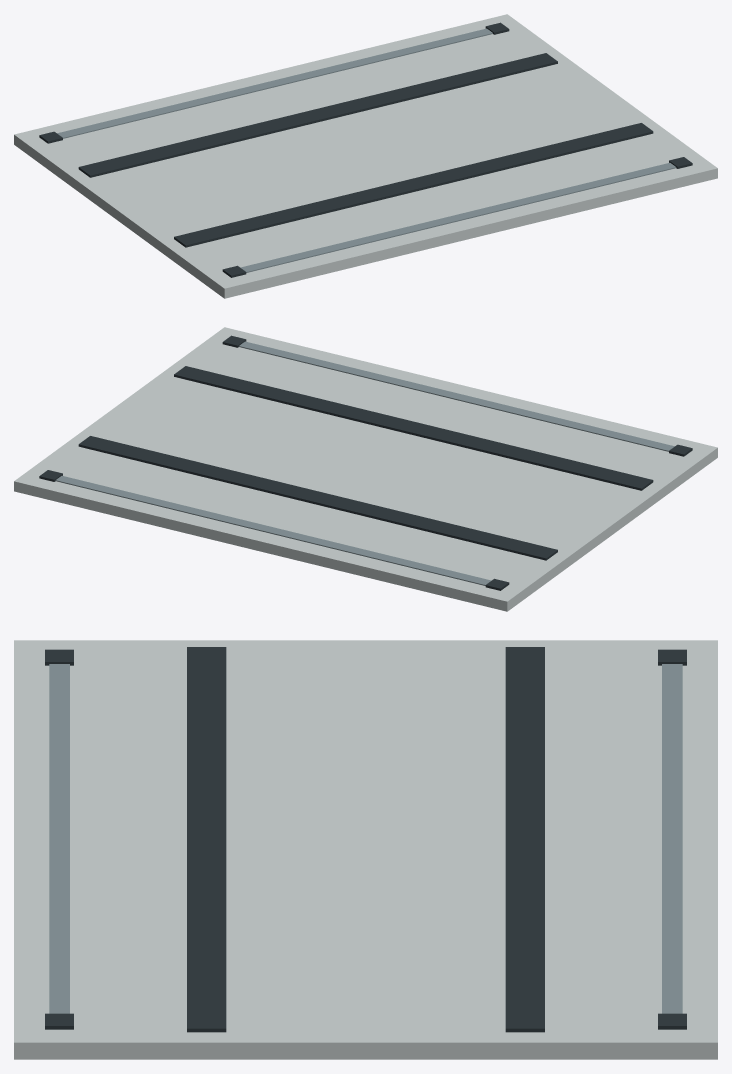
Rendered from machine_foundation.dae.
3 renders of one model, top to bottom at view 1: azimuth 30°, elevation 25°; view 2: azimuth 150°, elevation 25°; view 3: azimuth 270°, elevation 25°, orthographic. The views are drawn at different scales.
Visible parts, largest first — view 1: machine_foundation; view 2: machine_foundation; view 3: machine_foundation.
Part boxes in pixels (x1=…): machine_foundation: x1=14, y1=14, x2=717, y2=298; machine_foundation: x1=14, y1=327, x2=717, y2=611; machine_foundation: x1=14, y1=640, x2=717, y2=1059.
Bounding box in the file's own units: 4.6 × 3.4 × 0.11.
